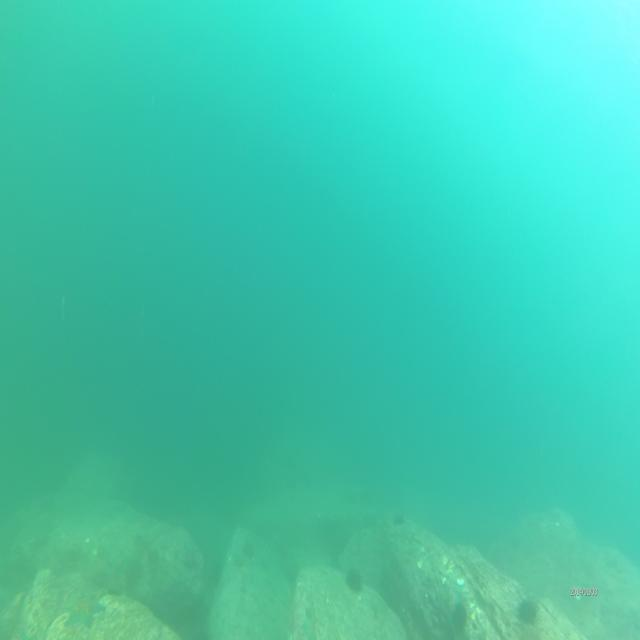echinus: (514, 593, 538, 622), (450, 604, 470, 632), (345, 566, 362, 592)
